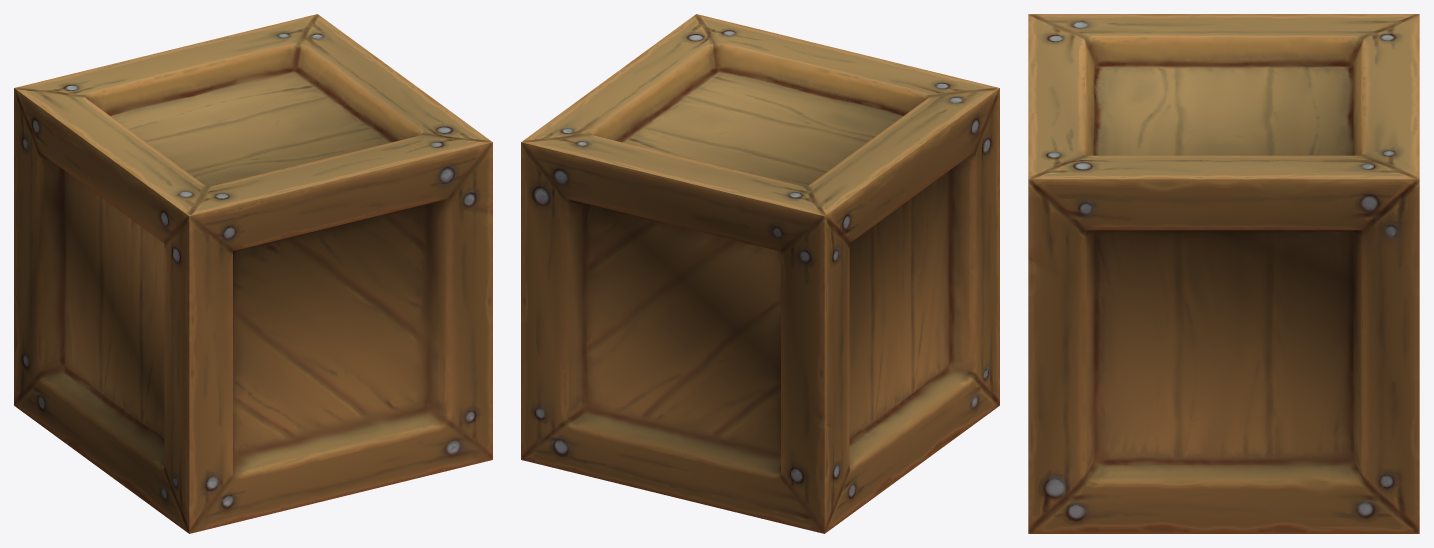
The model's file is crate1.fbx.
The picture shows the model from 3 angles, left to right: view 1: azimuth 30°, elevation 25°; view 2: azimuth 150°, elevation 25°; view 3: azimuth 270°, elevation 25°; orthographic projection. The views are drawn at different scales.
Parts seen in each view (by area): view 1: Cube; view 2: Cube; view 3: Cube.
Boxes of the visible parts, x1=… form: Cube: x1=14, y1=14, x2=492, y2=533; Cube: x1=521, y1=14, x2=999, y2=533; Cube: x1=1028, y1=14, x2=1419, y2=533.
Size of the model in its own units: 2.06 by 2.06 by 2.06.
1 material, 1 textured.
